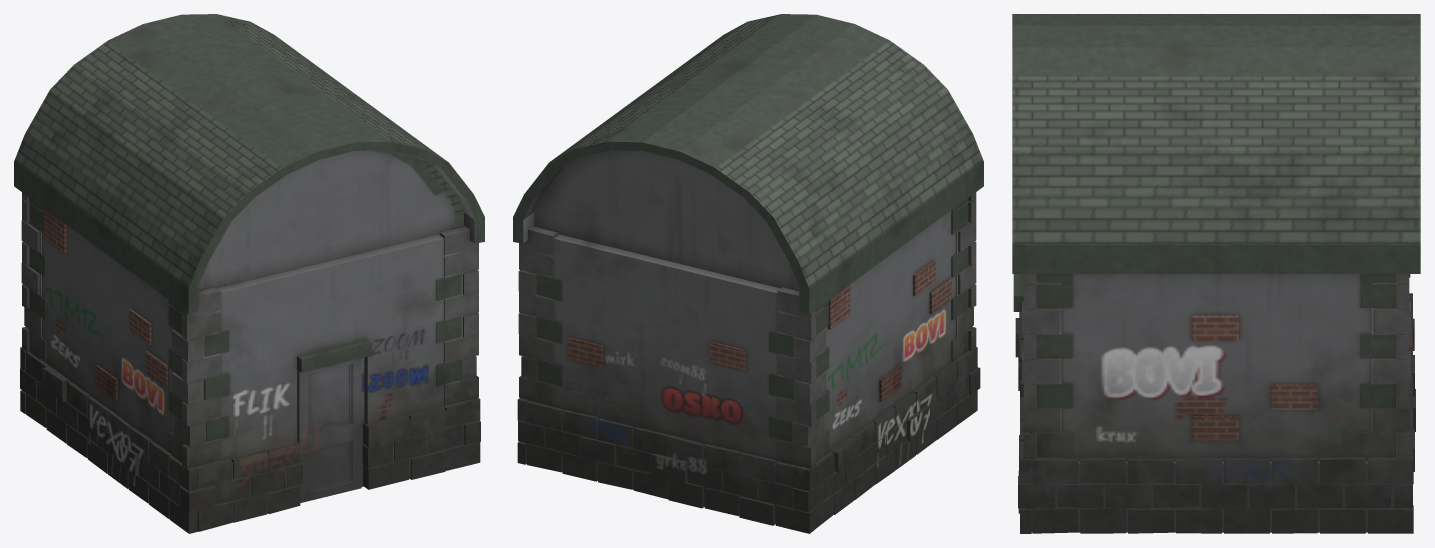
File: building_1Story_RoundRoof.glb
3 renders of one model, left to right at view 1: azimuth 30°, elevation 25°; view 2: azimuth 150°, elevation 25°; view 3: azimuth 270°, elevation 25°, orthographic. The views are drawn at different scales.
Parts seen in each view (by area): view 1: 1Story_RoundRoof_low; view 2: 1Story_RoundRoof_low; view 3: 1Story_RoundRoof_low.
Part boxes in pixels (x1=…): 1Story_RoundRoof_low: x1=14, y1=14, x2=484, y2=533; 1Story_RoundRoof_low: x1=513, y1=14, x2=983, y2=533; 1Story_RoundRoof_low: x1=1012, y1=14, x2=1420, y2=533.
Size of the model in its own units: 2.09 by 2.38 by 2.13.
Materials: 1 (1 with a texture image).
